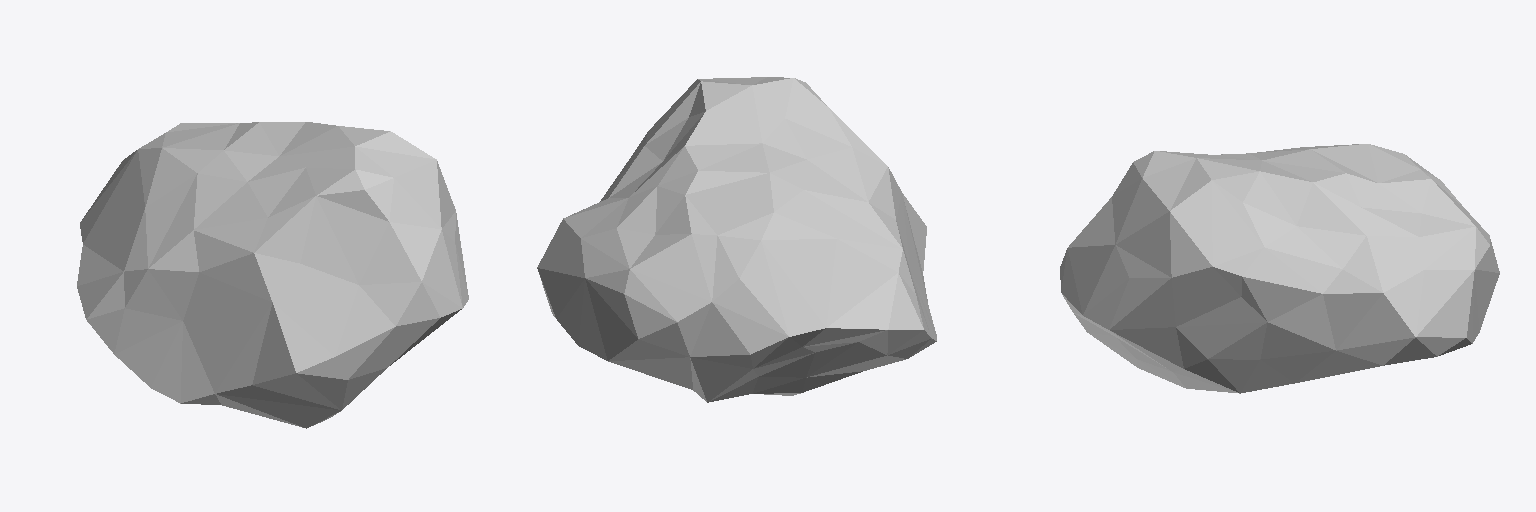
The model's file is Rock2_Low.obj.
3 renders of one model, left to right at view 1: azimuth 30°, elevation 25°; view 2: azimuth 150°, elevation 25°; view 3: azimuth 270°, elevation 25°, orthographic.
Visible parts, largest first — view 1: Rock2_Low; view 2: Rock2_Low; view 3: Rock2_Low.
Boxes of the visible parts, x1=… form: Rock2_Low: x1=77, y1=122, x2=468, y2=428; Rock2_Low: x1=537, y1=77, x2=936, y2=402; Rock2_Low: x1=1060, y1=144, x2=1499, y2=393.
Bounding box in the file's own units: 1.48 × 1.09 × 1.73.